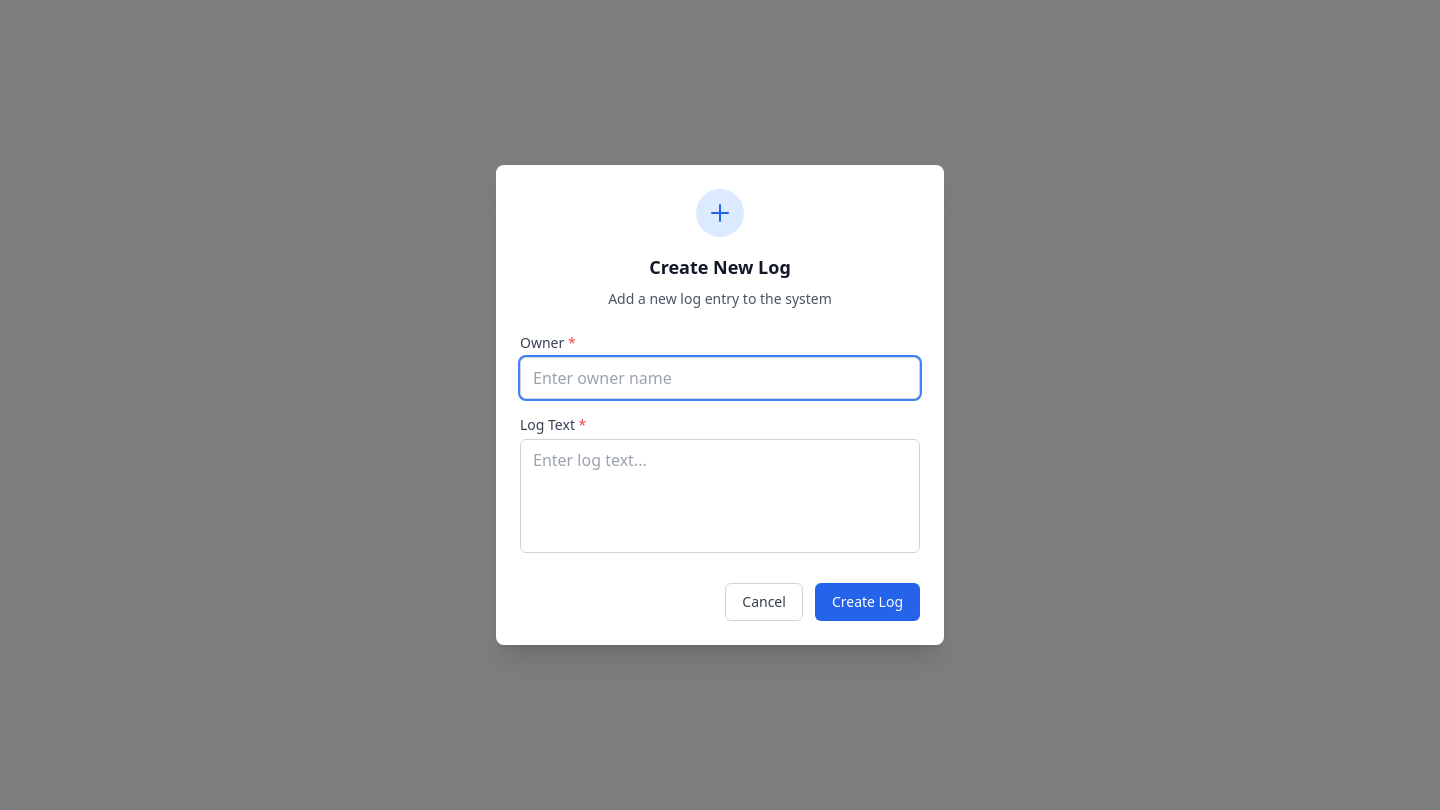
Test: AddLogModal › should clear errors when user types in inputs
Click the button "Create Log".
click(867, 602)  # box [815,583,920,621]
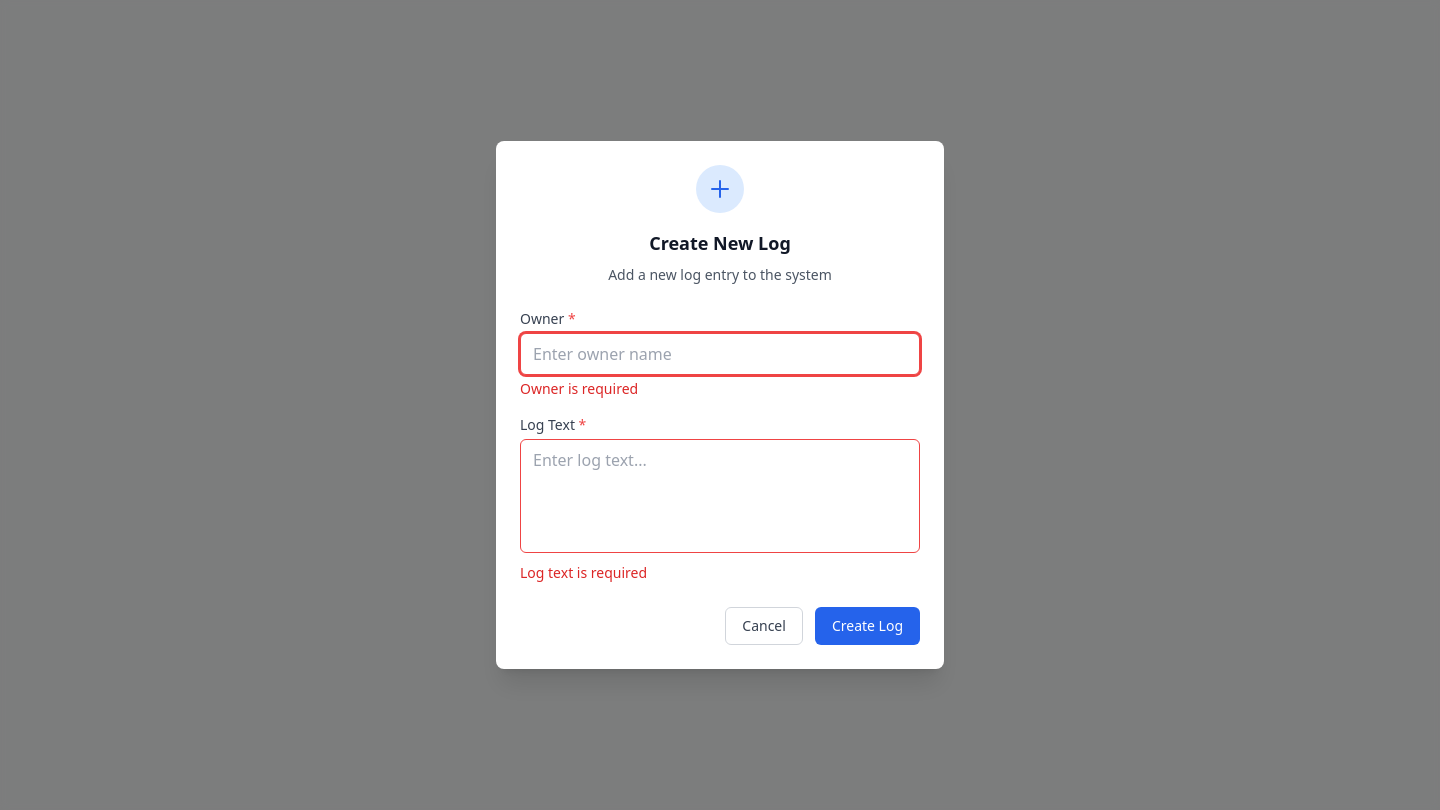
Now the text "Owner is required" is shown, box [520,379,638,398]
Type "Test" into the field labelled "Owner *".
click(720, 354); type("Test")  # box [520,333,920,375]
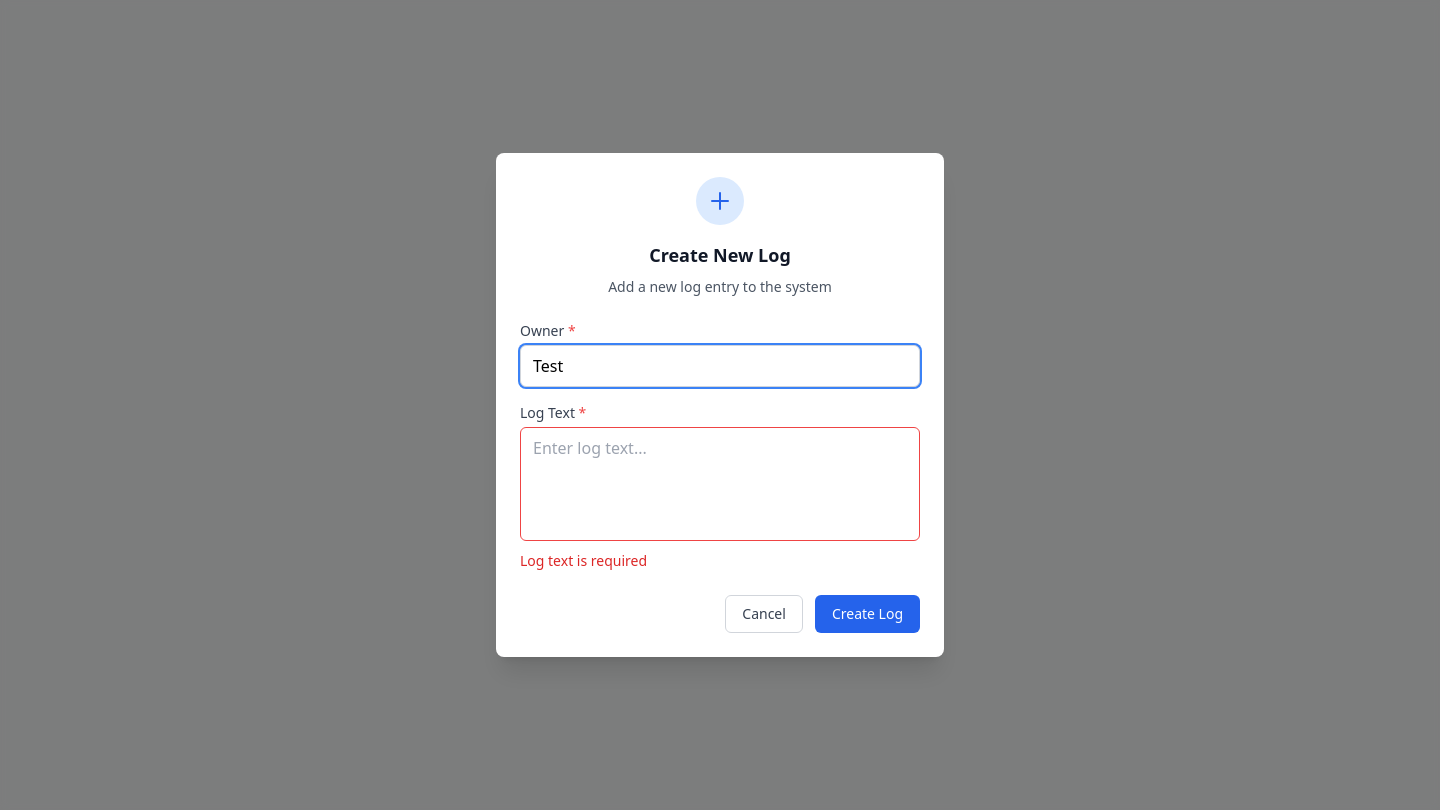
Now the text "Owner is required" is gone
